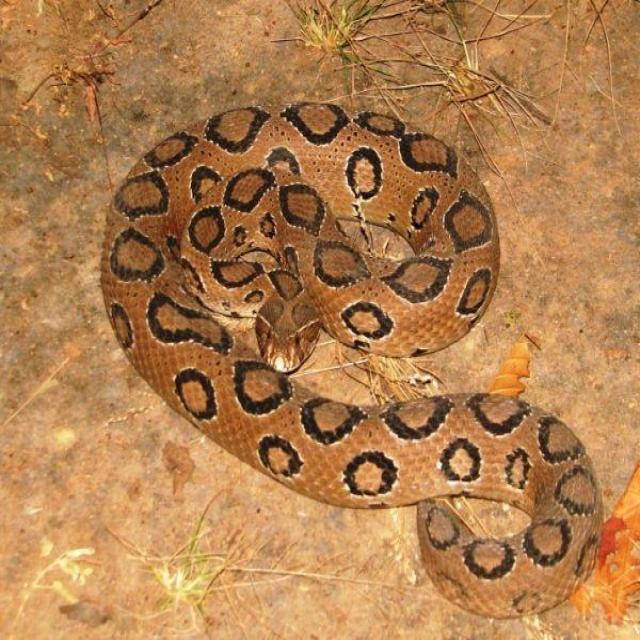Snake: (99, 100, 603, 619)
